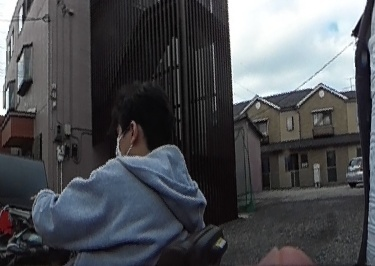person: (37, 80, 215, 266)
